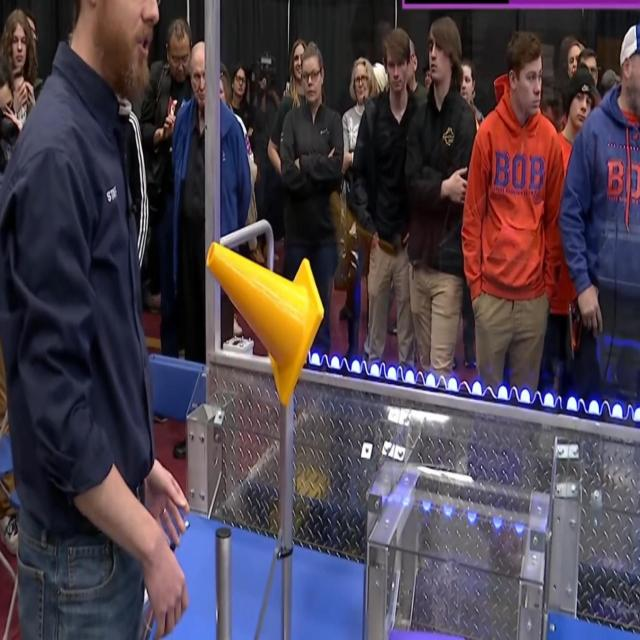frc_cone: (208, 240, 322, 409)
frc_cube: (384, 627, 484, 640)
